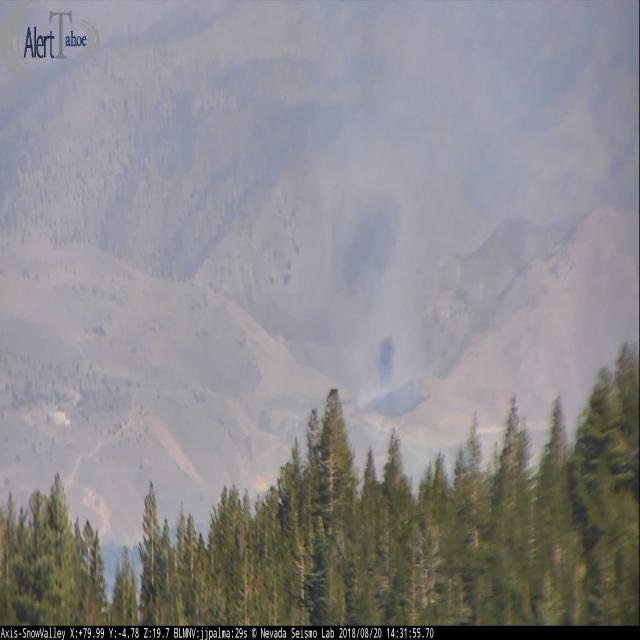smoke: (329, 140, 431, 415)
